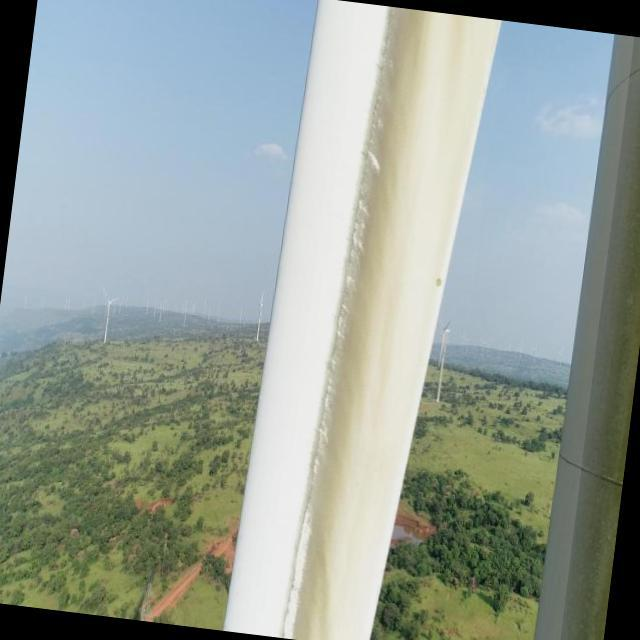Dirt: (283, 4, 503, 640)
